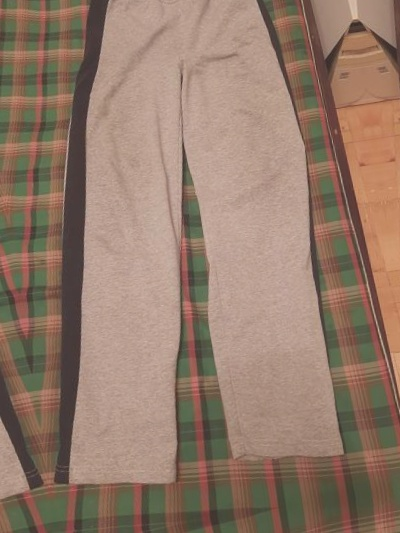Pants: (0, 0, 369, 512), (0, 12, 32, 533), (83, 520, 400, 533), (400, 0, 400, 450)
